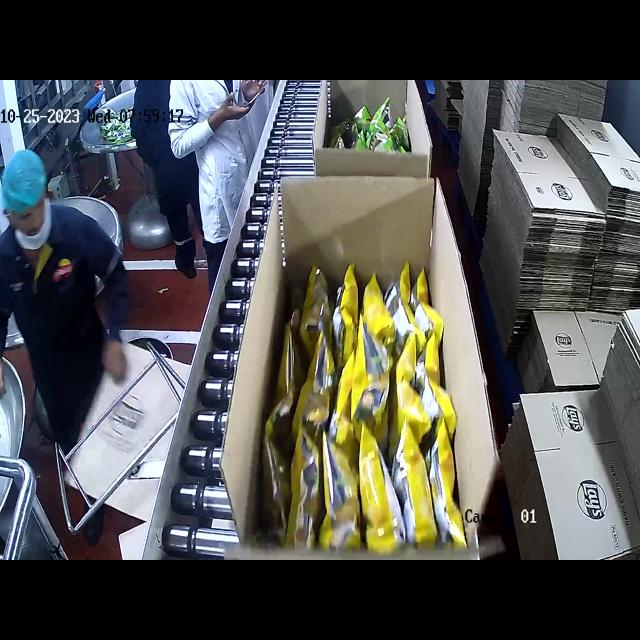salted: (302, 233, 452, 560)
yogurt: (338, 97, 414, 158)
